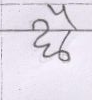ai_matra: (47, 4, 80, 28)
